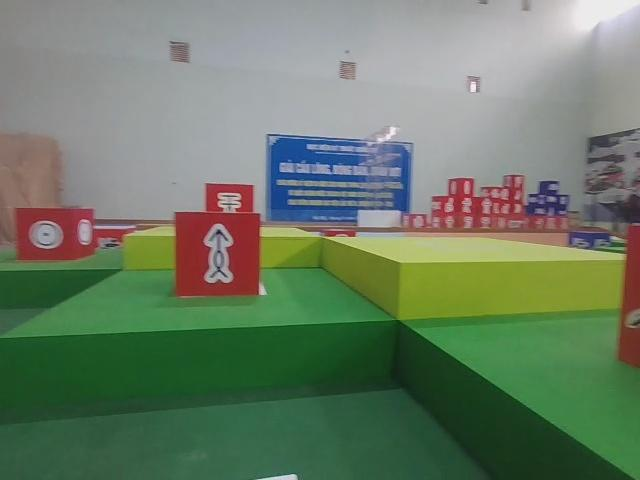R2 Real: (174, 209, 264, 299), (13, 210, 96, 262)
